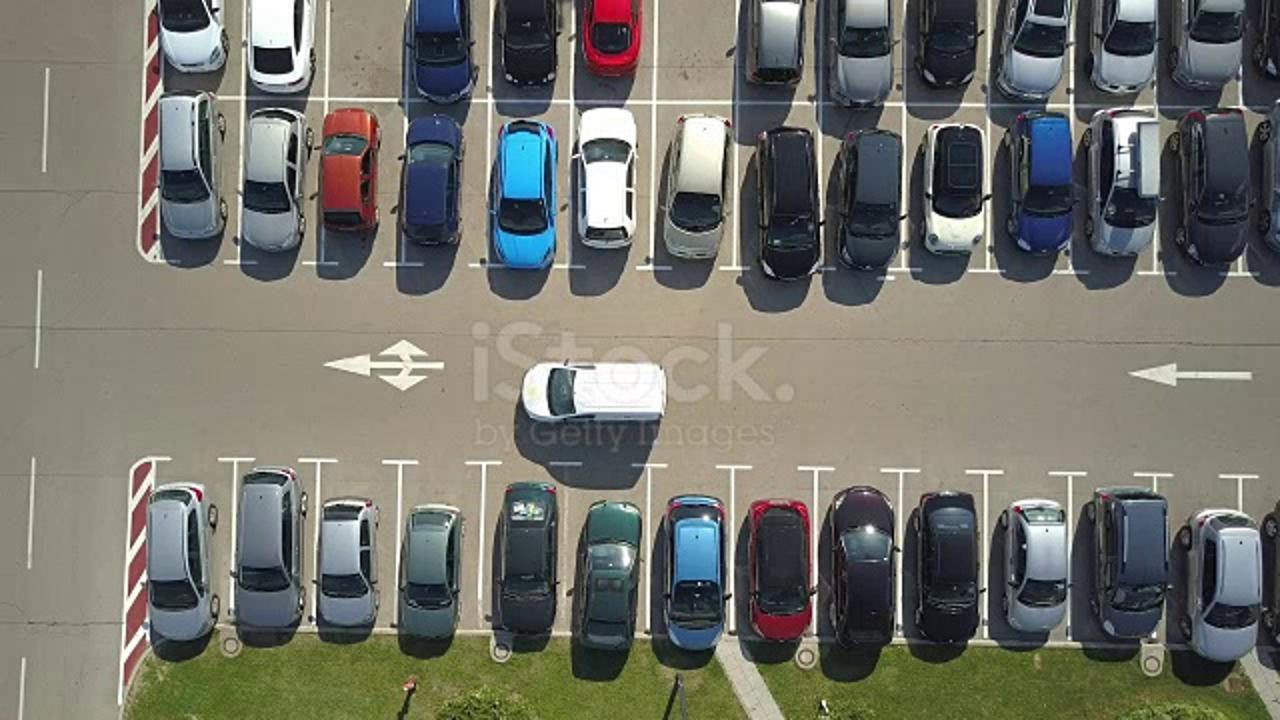car: (742, 484, 819, 649), (482, 116, 564, 268), (489, 476, 565, 638), (750, 120, 827, 278), (660, 487, 731, 653), (390, 504, 465, 656), (149, 89, 225, 239), (661, 112, 732, 266), (231, 106, 305, 250), (312, 105, 387, 244), (996, 492, 1071, 631), (920, 113, 995, 252), (311, 495, 386, 634), (567, 107, 642, 246), (392, 110, 467, 249), (529, 360, 667, 422)
